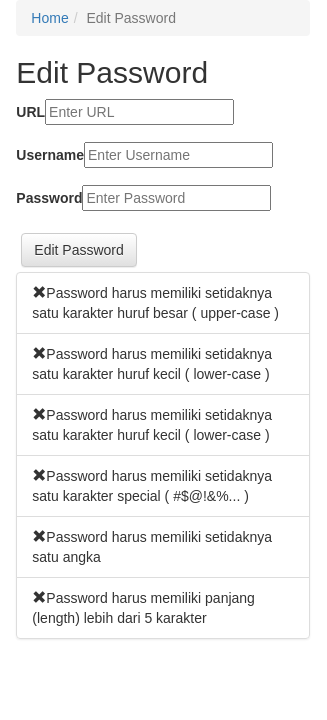
Test: <EditPassword /> › should validate form to Password is Required
Type "http://localhost" into the field with placeholder "Enter URL" at coordinates (140, 112), box [45,99,234,125]
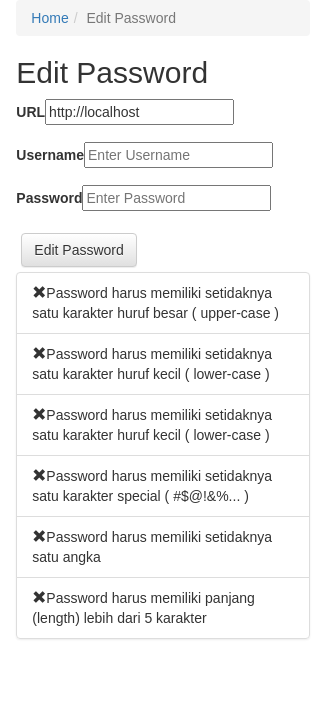
Type "username" into the field with placeholder "Enter Username" at coordinates (178, 155), box [84,142,273,168]
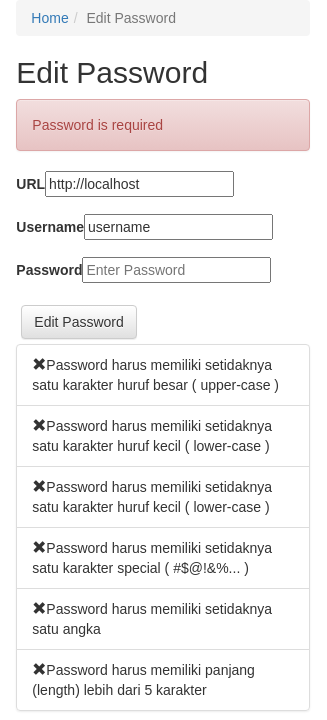
Expected: the message "Password is required" is shown, [16,99,310,151]
